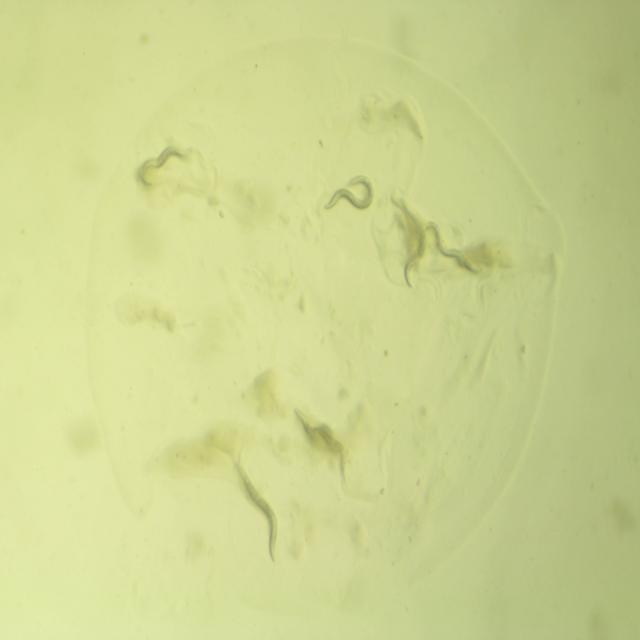worm: (228, 455, 286, 569), (289, 402, 352, 486), (422, 212, 488, 284), (392, 190, 430, 298), (133, 135, 193, 198), (319, 167, 380, 225)
